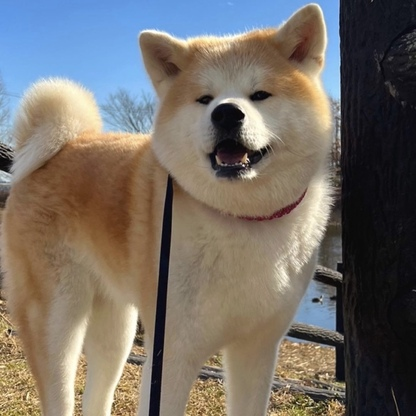akita: (1, 1, 341, 416)
